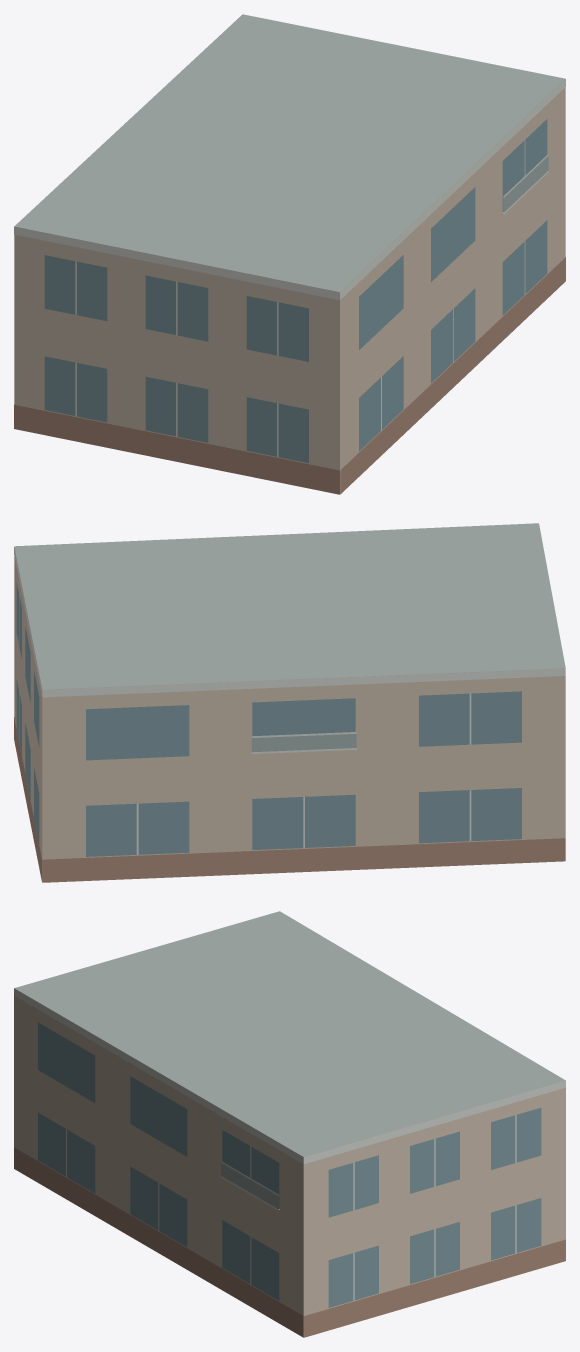
The model's file is survey-upis-32673350.glb.
The picture shows the model from 3 angles, top to bottom: view 1: azimuth 30°, elevation 25°; view 2: azimuth 150°, elevation 25°; view 3: azimuth 270°, elevation 25°; orthographic projection. The views are drawn at different scales.
Parts seen in each view (by area): view 1: survey-upis-32673350.tmp; view 2: survey-upis-32673350.tmp; view 3: survey-upis-32673350.tmp.
Boxes of the visible parts, x1=… form: survey-upis-32673350.tmp: x1=14, y1=14, x2=565, y2=494; survey-upis-32673350.tmp: x1=14, y1=523, x2=565, y2=882; survey-upis-32673350.tmp: x1=14, y1=911, x2=565, y2=1337.
Size of the model in its own units: 17.83 by 6.1 by 16.89.
